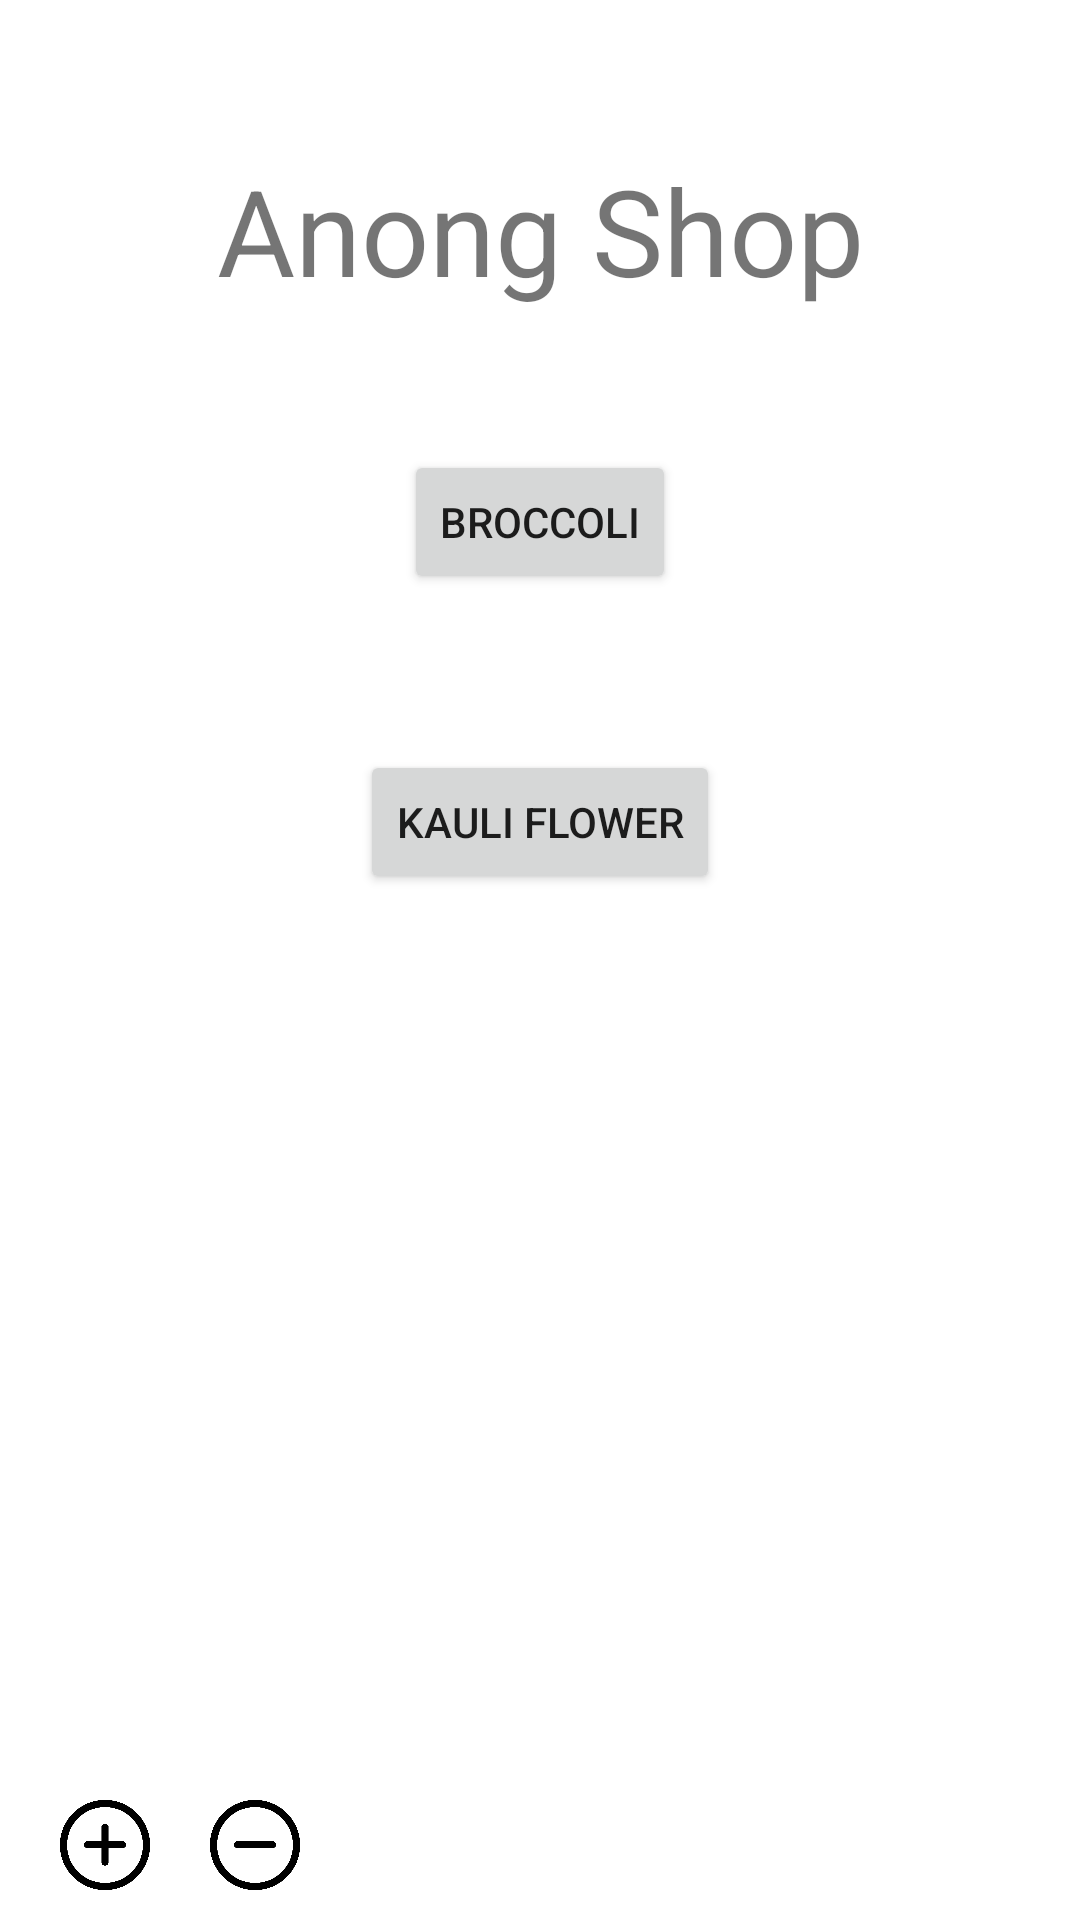

Locate icon controls on the screen. Image size 1080 x 1920, boxes as (x1,y1,x2,y2).
addbut: (60,1800,150,1890)
minbut: (210,1800,300,1890)
